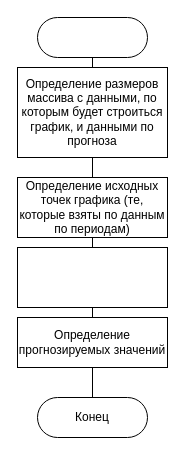
The diagram is 185 pixels wide and 455 high, and some of its shapes have lost their labels. Here are the shapes that lost their labels. From the top down, the box of each, then its label:
(36, 16, 148, 58): Начало
(16, 246, 168, 308): Определение скользящего среднего для последней тройки преиодов
